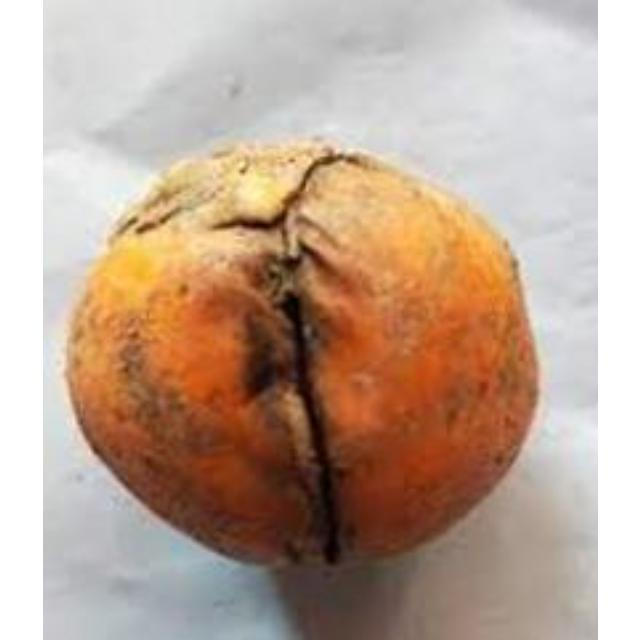damaged: (61, 138, 547, 574)
